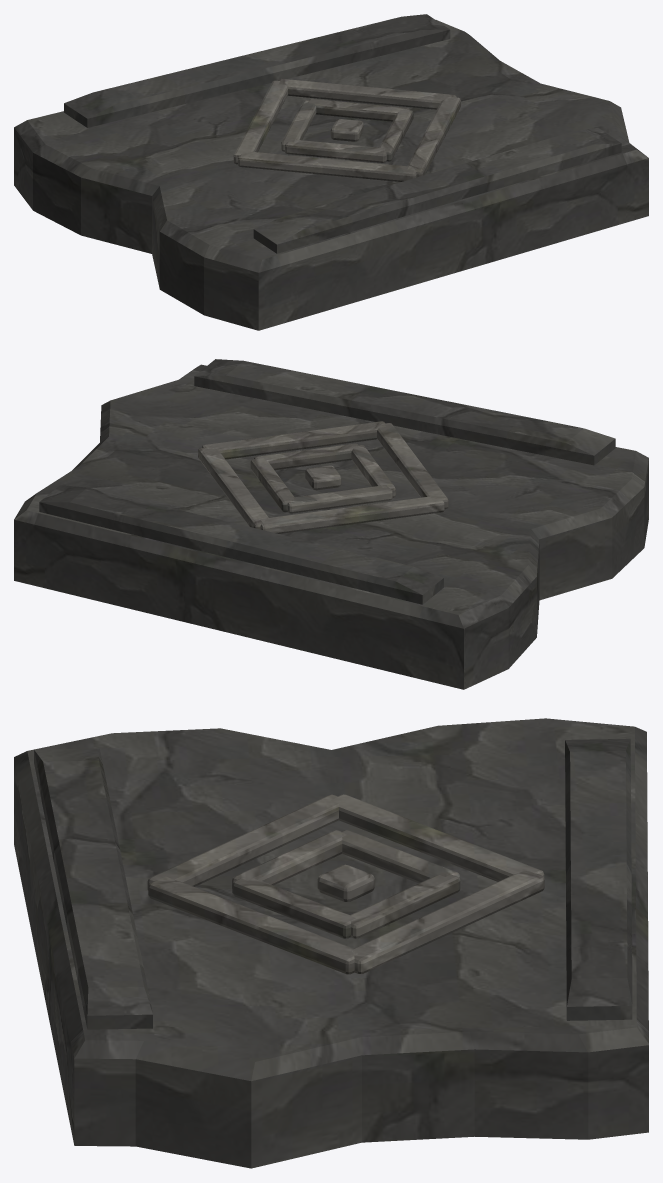
File: junk_coffin_piece_b.glb
3 views of the same model, one above another, from view 1: azimuth 30°, elevation 25°; view 2: azimuth 150°, elevation 25°; view 3: azimuth 270°, elevation 25° (orthographic). The views are drawn at different scales.
Visible parts, largest first — view 1: model; view 2: model; view 3: model.
Part boxes in pixels (left/top/right/bottom): model: left=14, top=14, right=648, bottom=330; model: left=14, top=359, right=648, bottom=689; model: left=14, top=718, right=648, bottom=1168.
Size of the model in its own units: 0.7734 by 0.122 by 0.5798.
Materials: 2 (2 with a texture image).
